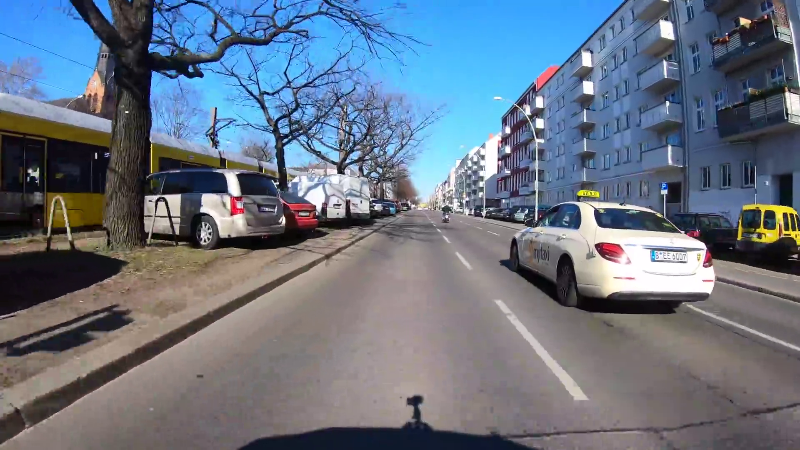Plate: (648, 248, 689, 263)
